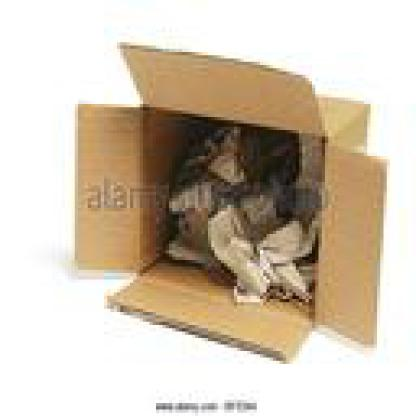CARDBOARD: (75, 39, 384, 357)
PAPER: (162, 162, 244, 260), (211, 204, 273, 306), (254, 214, 315, 302), (189, 121, 257, 188), (270, 127, 322, 205), (237, 169, 296, 215)
